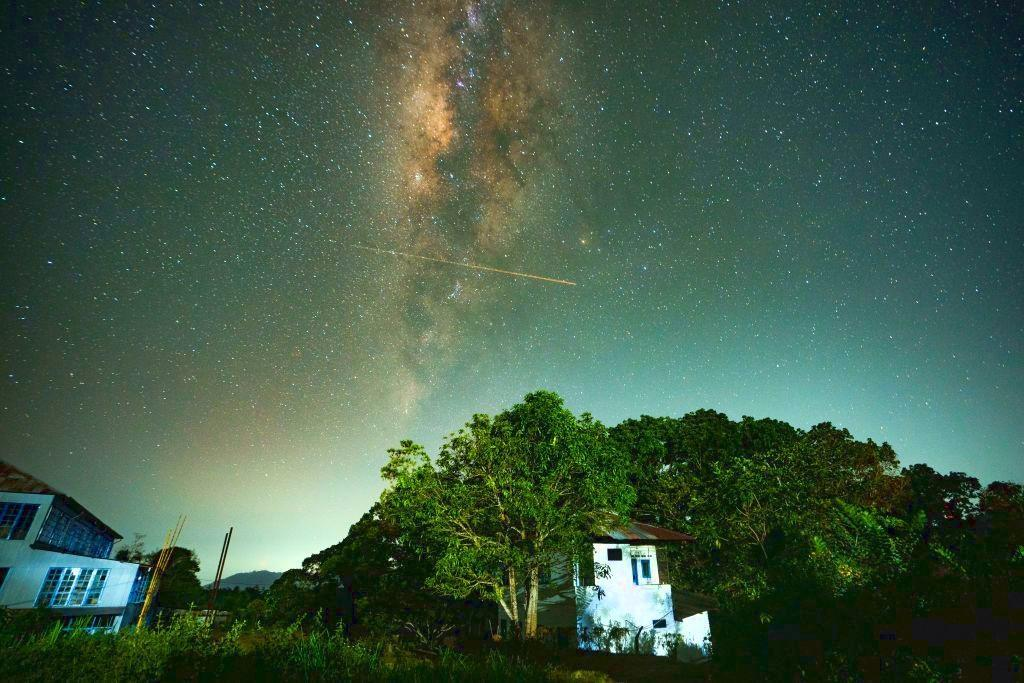meteorite: (449, 257, 589, 292)
